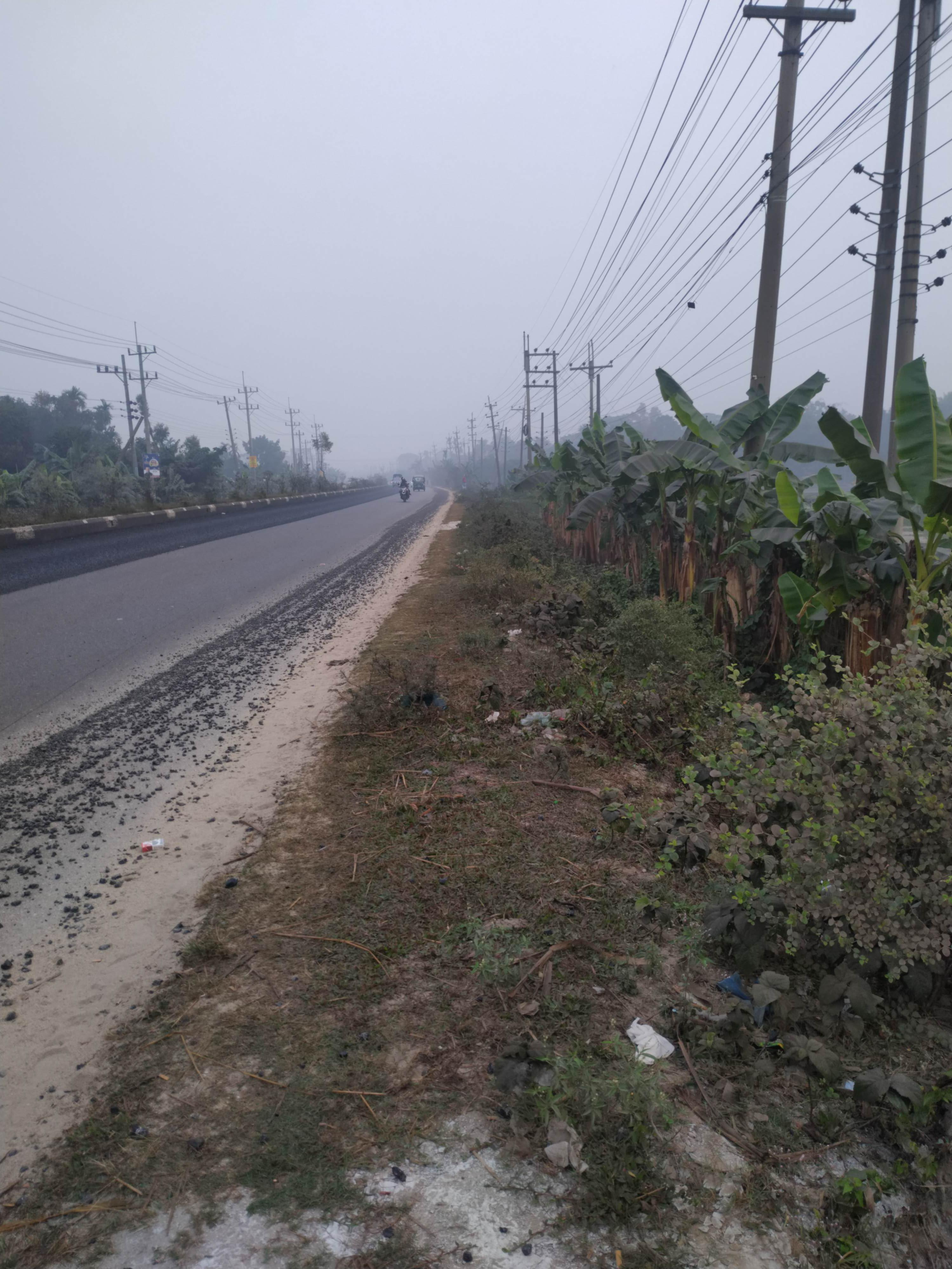Bike: (386, 463, 418, 511)
